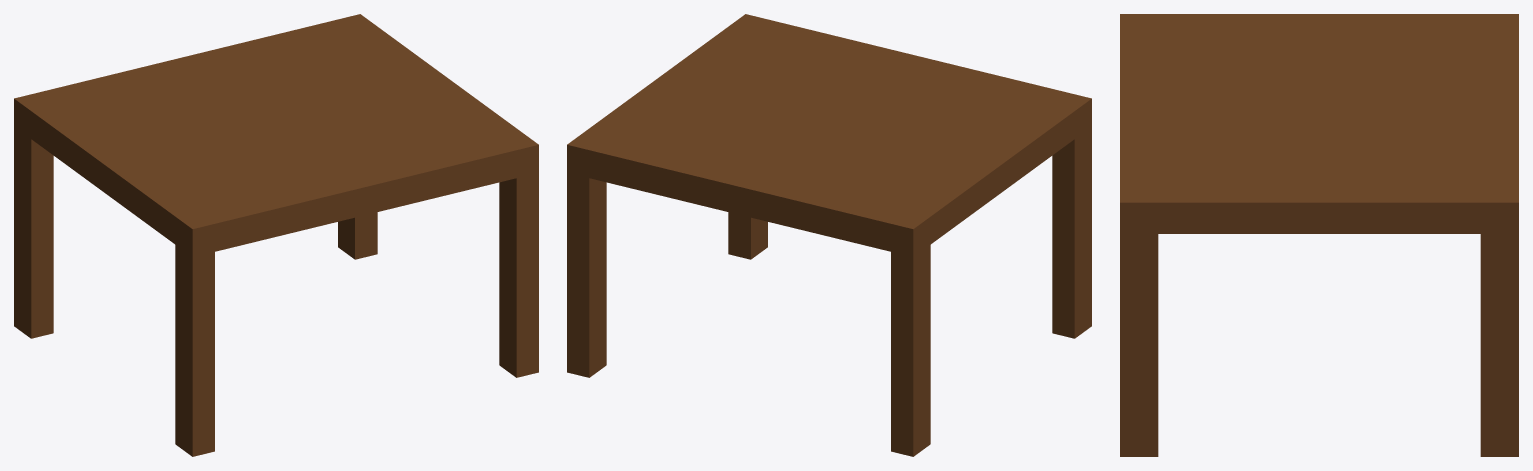
Rendered from Mutfak_Masas.fbx.
3 renders of one model, left to right at view 1: azimuth 30°, elevation 25°; view 2: azimuth 150°, elevation 25°; view 3: azimuth 270°, elevation 25°, orthographic. The views are drawn at different scales.
Visible parts, largest first — view 1: Mutfak_Masa; view 2: Mutfak_Masa; view 3: Mutfak_Masa.
Part boxes in pixels (x1=…): Mutfak_Masa: x1=14, y1=14, x2=538, y2=456; Mutfak_Masa: x1=567, y1=14, x2=1091, y2=456; Mutfak_Masa: x1=1120, y1=14, x2=1518, y2=456.
Bounding box in the file's own units: 186 × 117 × 166.
